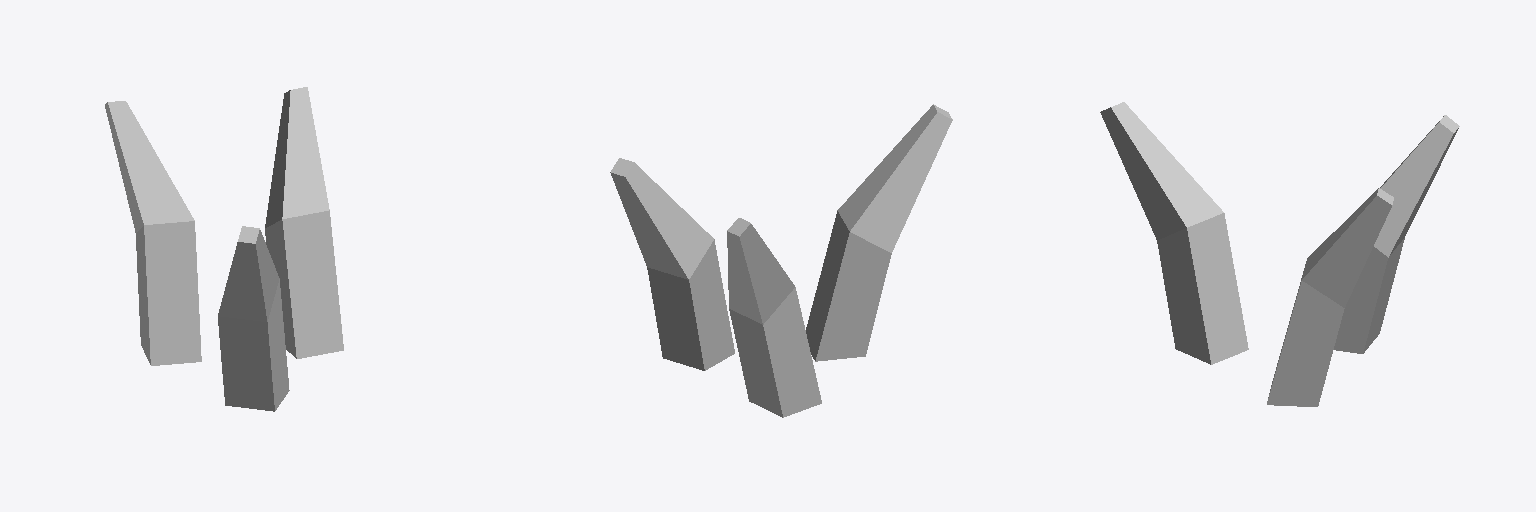
Rendered from medium_grass.obj.
3 renders of one model, left to right at view 1: azimuth 30°, elevation 25°; view 2: azimuth 150°, elevation 25°; view 3: azimuth 270°, elevation 25°, orthographic.
Visible parts, largest first — view 1: Grass_2_Cube.001; view 2: Grass_2_Cube.001; view 3: Grass_2_Cube.001.
Part boxes in pixels (x1,y1,x2,y2): Grass_2_Cube.001: (105, 87, 343, 411); Grass_2_Cube.001: (610, 104, 952, 417); Grass_2_Cube.001: (1100, 102, 1459, 406).
Bounding box in the file's own units: 0.2608 × 0.2684 × 0.4002.